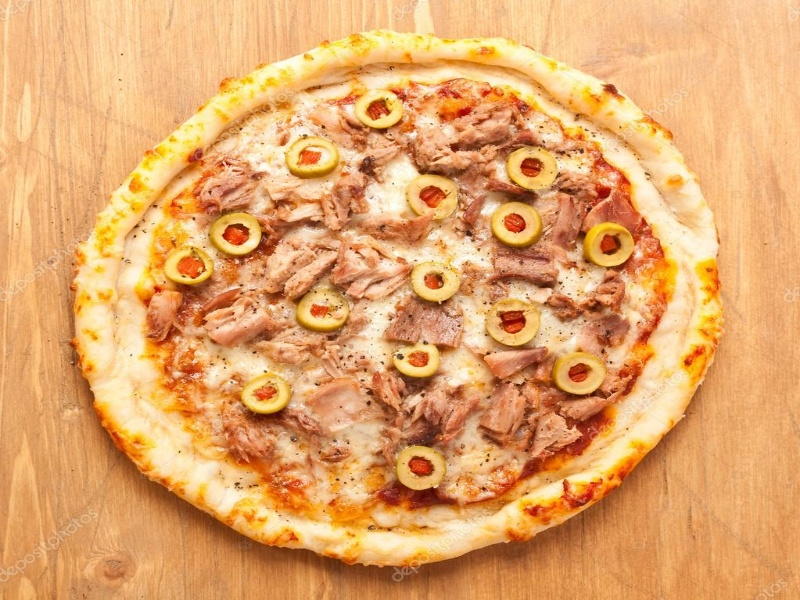olive verte: (383, 443, 450, 492), (285, 288, 353, 334), (484, 296, 543, 349), (284, 135, 342, 183), (549, 350, 609, 396), (507, 144, 561, 193), (583, 223, 639, 270), (386, 339, 448, 380), (489, 203, 543, 248), (163, 246, 216, 290), (210, 213, 264, 256), (346, 89, 407, 127), (412, 260, 462, 306), (404, 177, 460, 216), (245, 370, 288, 418)
